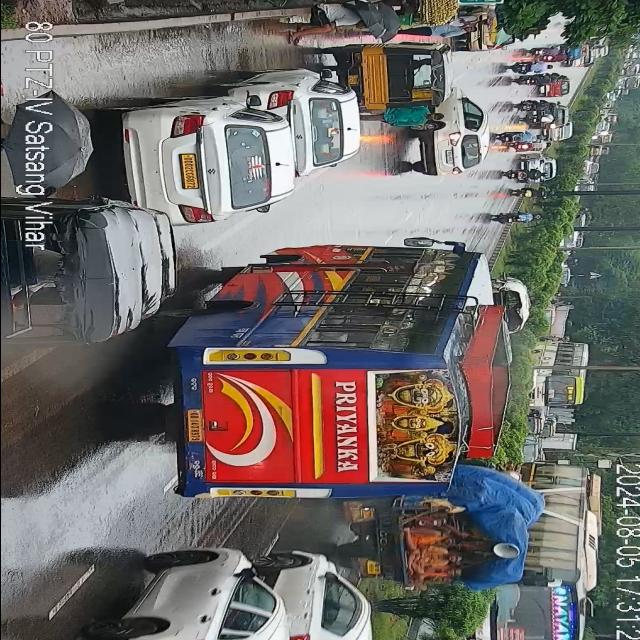2-wheelers: (498, 60, 556, 74), (489, 210, 543, 222), (515, 99, 553, 115), (498, 130, 548, 142), (513, 72, 553, 87), (505, 188, 561, 198), (522, 113, 560, 125), (524, 46, 566, 56), (504, 170, 544, 180), (509, 141, 548, 149)
auto: (332, 34, 452, 110)
bus: (133, 234, 526, 496), (467, 463, 599, 640), (518, 342, 588, 412)
car: (116, 88, 310, 230), (87, 551, 300, 640), (242, 72, 364, 182), (278, 550, 382, 640), (414, 98, 500, 175), (521, 156, 553, 183), (540, 78, 570, 104), (548, 124, 575, 142), (570, 51, 592, 69), (552, 103, 566, 124)
pedestrian: (294, 0, 399, 52), (368, 104, 452, 125)
truck: (340, 488, 542, 584)
